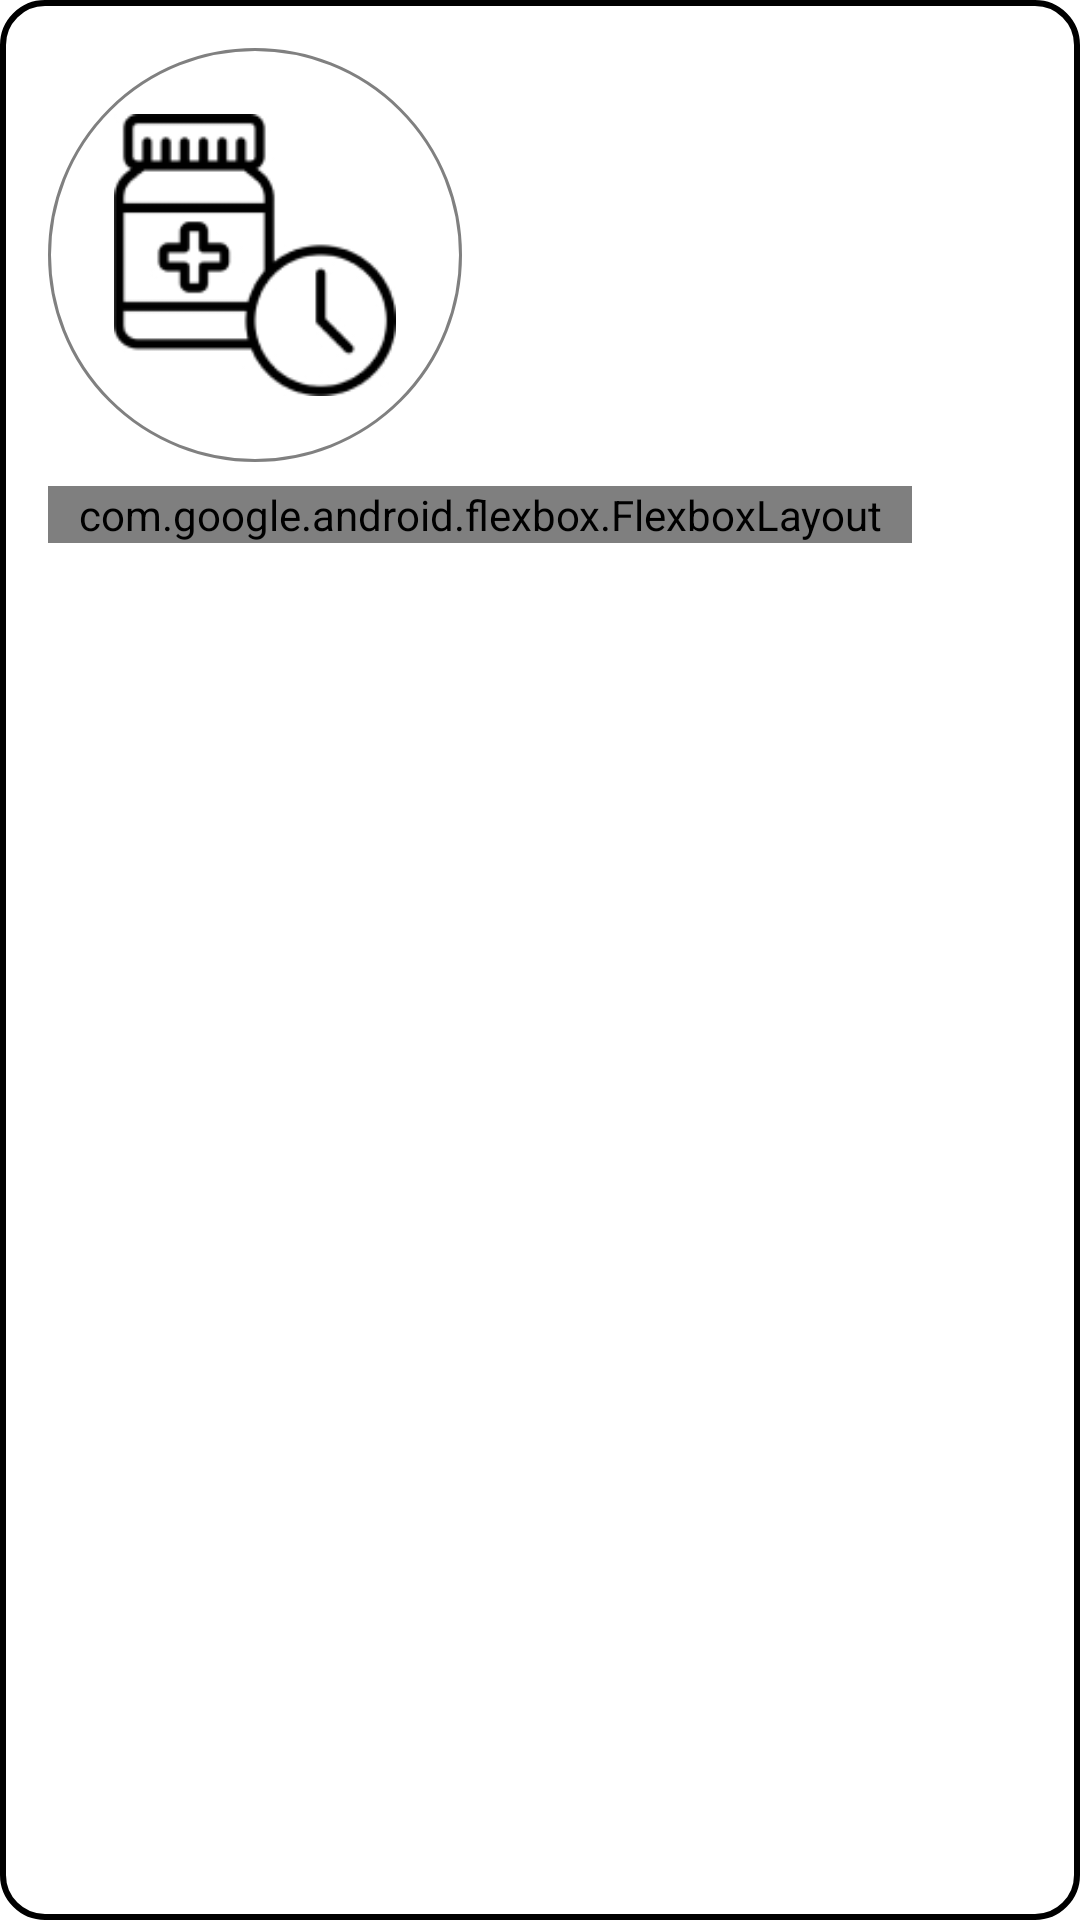

Named icons in this screenshot (1080 x 1920) and their bounding boxes, (x1,y1,x2,y2):
pill circle item: (114,114,396,396)
